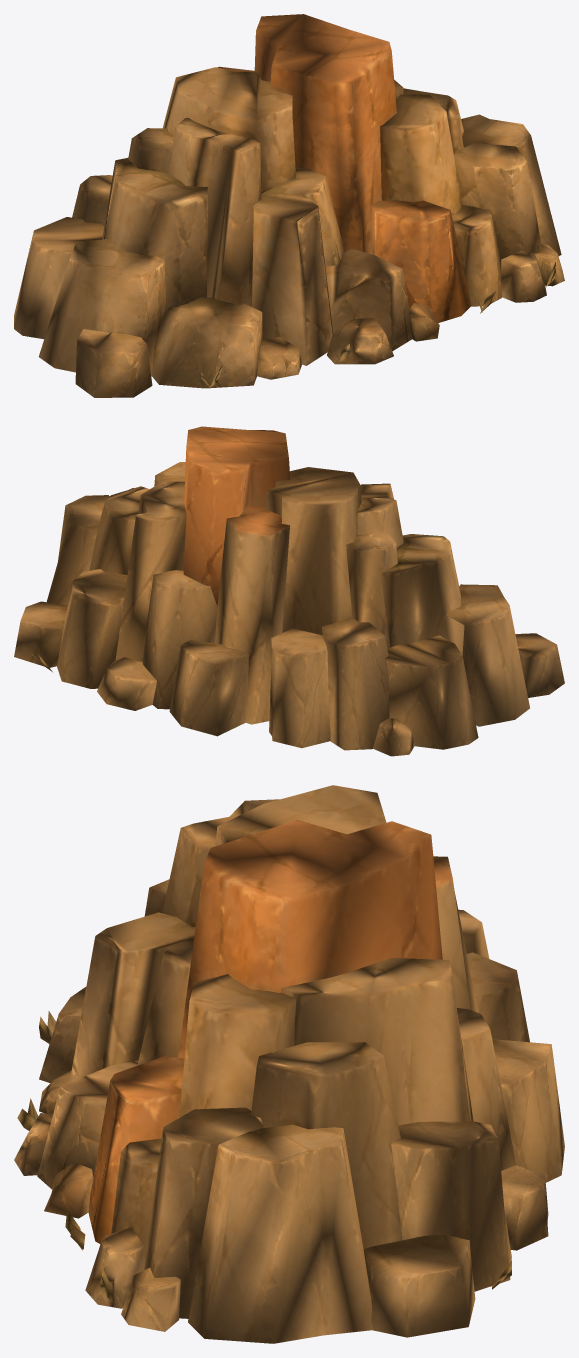
Rendered from Meshy_AI_Stylized_Desert_Rocks_0830145652_texture.fbx.
3 views of the same model, one above another, from view 1: azimuth 30°, elevation 25°; view 2: azimuth 150°, elevation 25°; view 3: azimuth 270°, elevation 25° (orthographic). The views are drawn at different scales.
Visible parts, largest first — view 1: mesh_node; view 2: mesh_node; view 3: mesh_node.
Boxes of the visible parts, <box> form: mesh_node: <box>14,14,564,397</box>; mesh_node: <box>14,426,564,756</box>; mesh_node: <box>14,785,564,1343</box>.
Bounding box in the file's own units: 662 × 300 × 429.
1 material, 1 textured.
